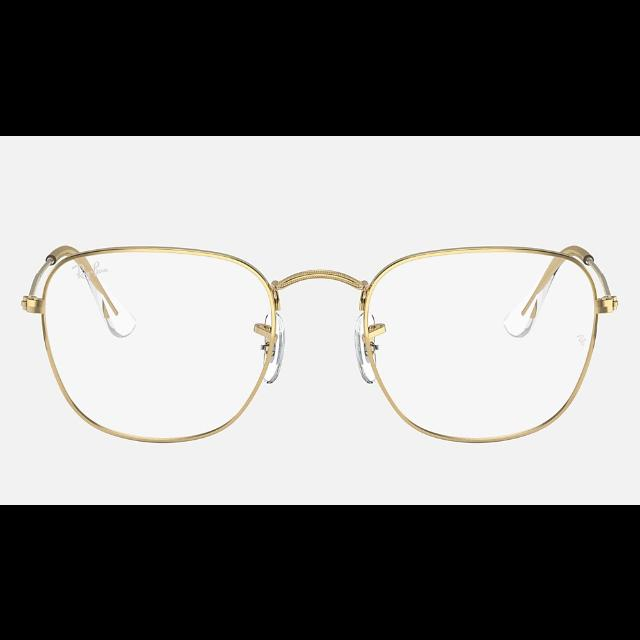glasses: (22, 240, 620, 442)
